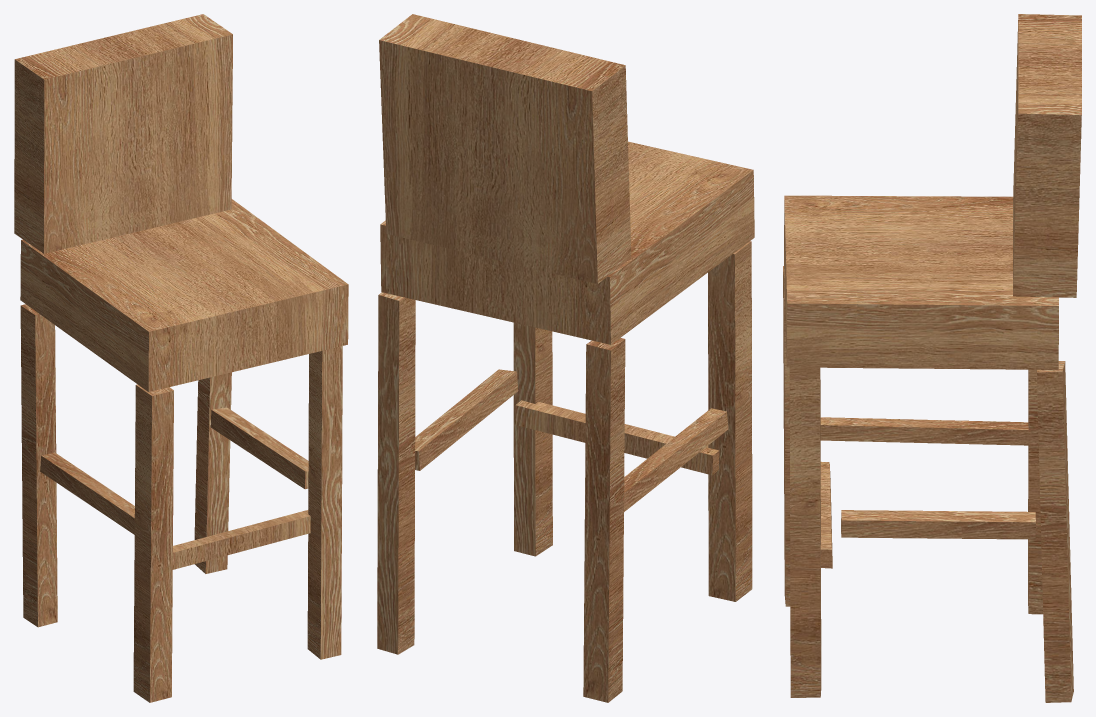
File: 37874_ours.glb
The picture shows the model from 3 angles, left to right: view 1: azimuth 30°, elevation 25°; view 2: azimuth 150°, elevation 25°; view 3: azimuth 270°, elevation 25°; orthographic projection. The views are drawn at different scales.
Parts seen in each view (by area): view 1: ParentEmpty; view 2: ParentEmpty; view 3: ParentEmpty.
Boxes of the visible parts, <box> form: ParentEmpty: <box>14,14,348,702</box>; ParentEmpty: <box>377,14,754,702</box>; ParentEmpty: <box>783,14,1081,702</box>.
Size of the model in its own units: 0.388 by 1 by 0.4587.
Materials: 1 (1 with a texture image).
